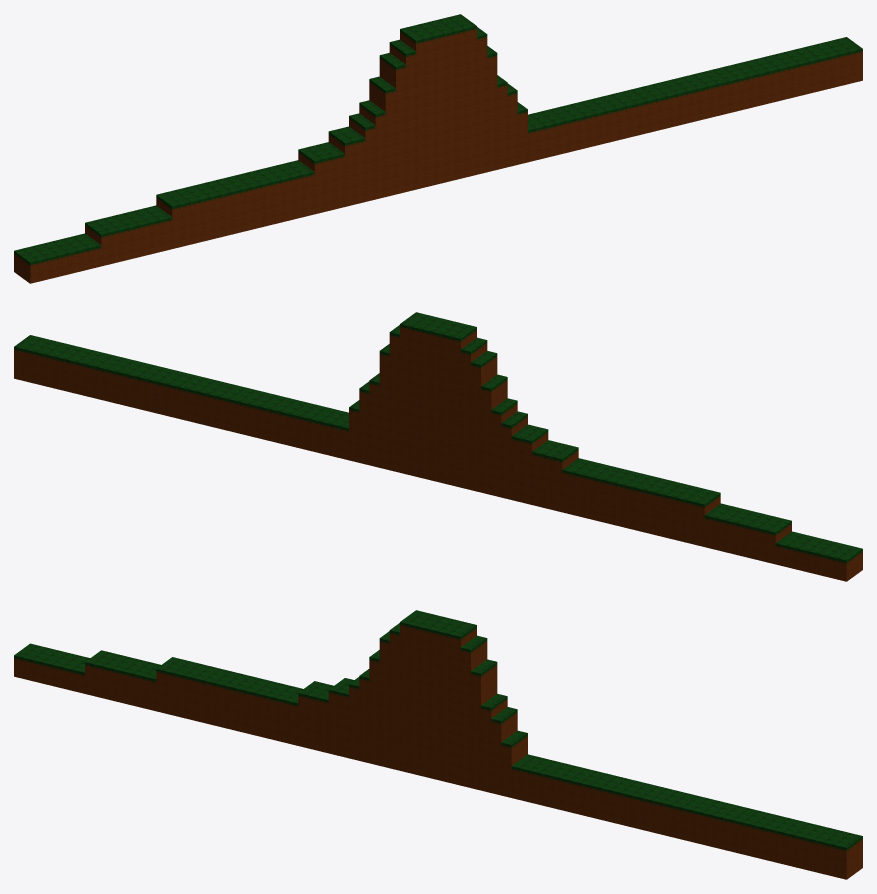
File: Luna0FluttershySoloOriginalV2.glb
3 views of the same model, one above another, from view 1: azimuth 30°, elevation 25°; view 2: azimuth 150°, elevation 25°; view 3: azimuth 330°, elevation 25° (orthographic).
Parts seen in each view (by area): view 1: Setor_1, Setor_0, Setor_2; view 2: Setor_1, Setor_0, Setor_2; view 3: Setor_1, Setor_0, Setor_2.
Boxes of the visible parts, bbox=[...] form: Setor_1: bbox=[339, 14, 680, 204]; Setor_0: bbox=[14, 129, 355, 283]; Setor_2: bbox=[664, 37, 862, 124]; Setor_1: bbox=[196, 312, 537, 502]; Setor_0: bbox=[521, 427, 862, 581]; Setor_2: bbox=[14, 335, 212, 422]; Setor_1: bbox=[339, 610, 679, 834]; Setor_0: bbox=[14, 643, 353, 755]; Setor_2: bbox=[664, 791, 862, 879].
Bounding box in the file's own units: 85.28 × 14.56 × 2.88.
Materials: 1 (1 with a texture image).
